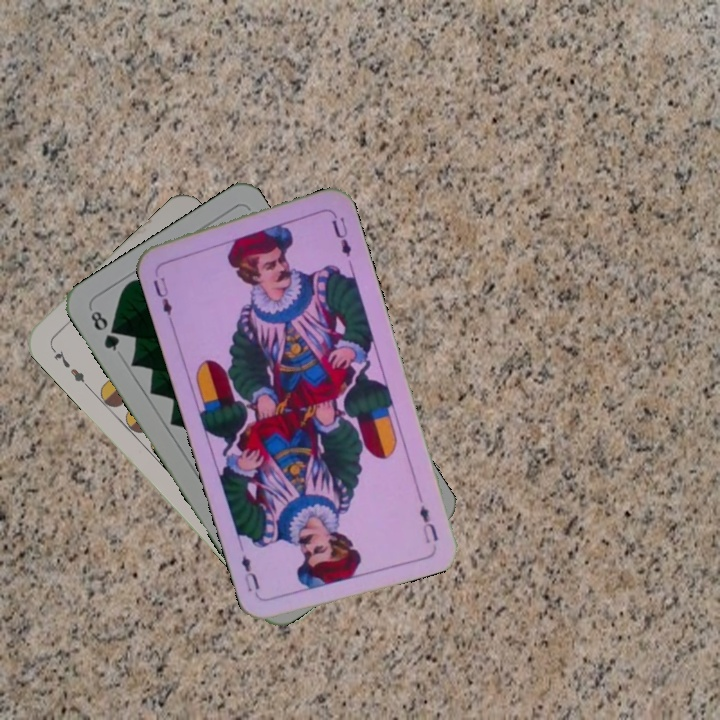E7: (46, 342, 91, 390)
EU: (149, 273, 175, 318), (415, 501, 441, 546)
G8: (86, 306, 123, 354)
